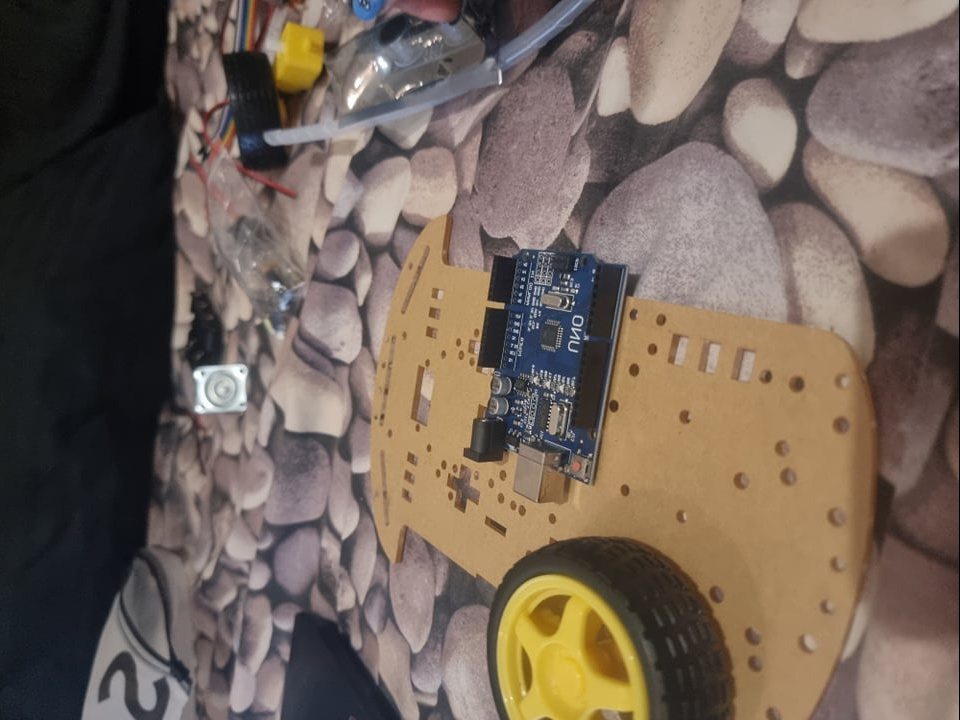BATTERY BOX: (180, 283, 227, 371)
UNO R3: (466, 230, 634, 505)
